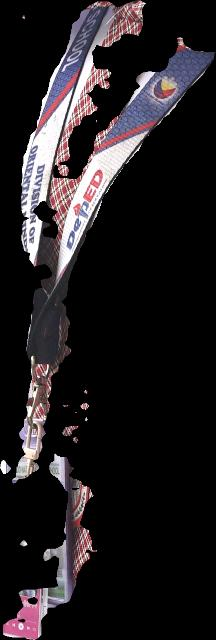id lace: (12, 0, 215, 483)
